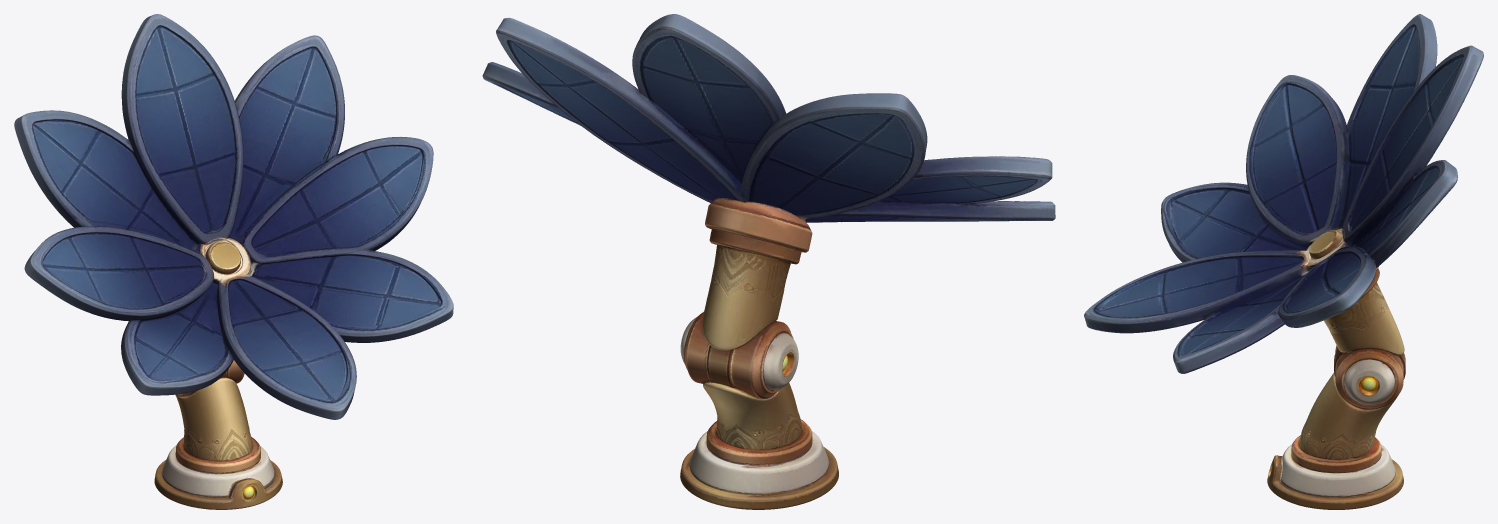
The model's file is solar_lotus.glb.
3 views of the same model, side by side, from view 1: azimuth 30°, elevation 25°; view 2: azimuth 150°, elevation 25°; view 3: azimuth 270°, elevation 25° (orthographic). The views are drawn at different scales.
Parts seen in each view (by area): view 1: convert; view 2: convert; view 3: convert.
Boxes of the visible parts, <box> form: convert: <box>14,14,453,509</box>; convert: <box>482,14,1055,509</box>; convert: <box>1084,14,1483,509</box>.
Bounding box in the file's own units: 1.01 × 0.9383 × 0.7783.
Materials: 1 (1 with a texture image).
